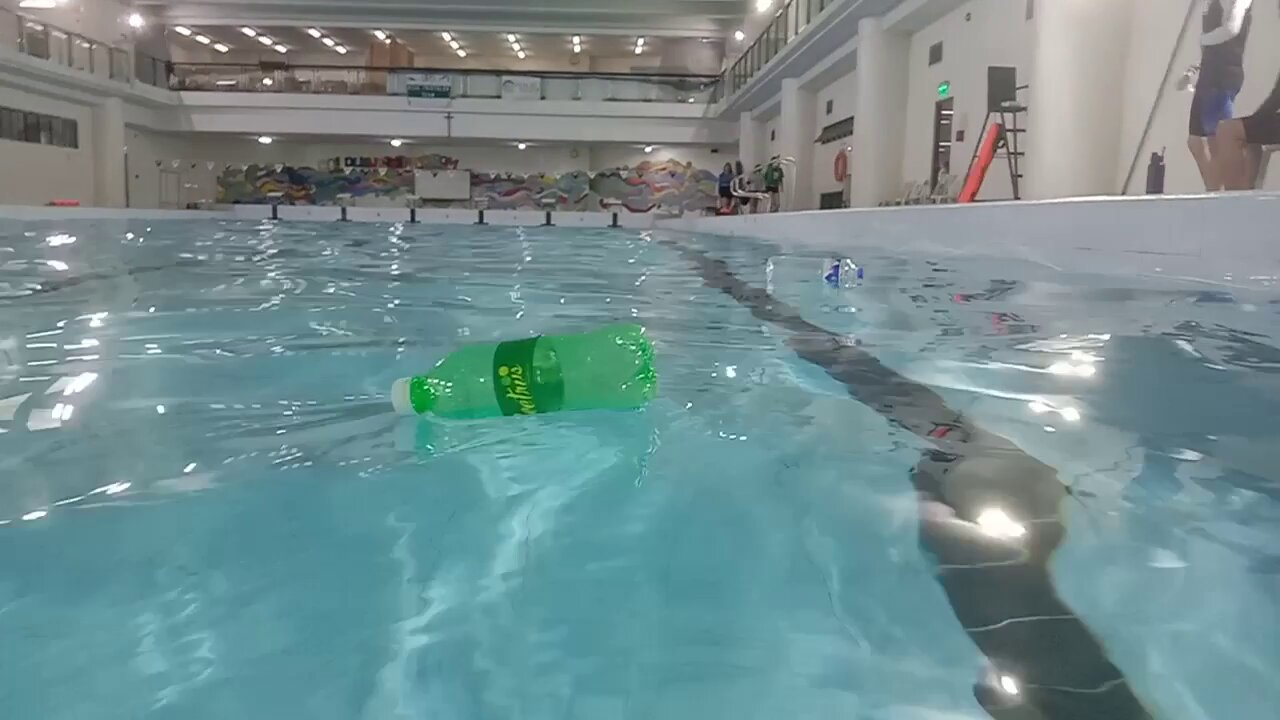plastic_bottle: (390, 324, 654, 422), (765, 255, 865, 284)
